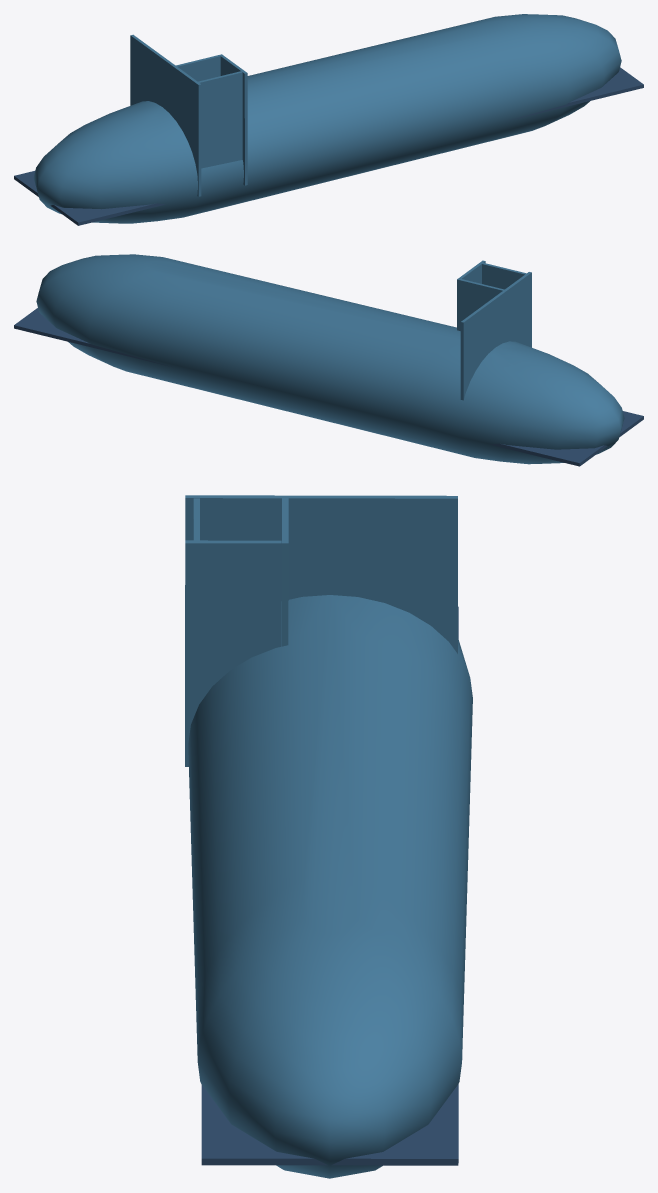
Rendered from wagon_scene (1).fbx.
3 renders of one model, top to bottom at view 1: azimuth 30°, elevation 25°; view 2: azimuth 150°, elevation 25°; view 3: azimuth 270°, elevation 25°, orthographic. The views are drawn at different scales.
Visible parts, largest first — view 1: Sphere.001, Cube.011, Plane; view 2: Sphere.001, Cube.011, Plane; view 3: Sphere.001, Cube.011, Plane.
Boxes of the visible parts, x1,y1,x2,y2 form: Sphere.001: (33, 14, 621, 223); Cube.011: (130, 34, 247, 196); Plane: (14, 67, 643, 225); Sphere.001: (36, 254, 624, 464); Cube.011: (457, 260, 531, 400); Plane: (14, 308, 643, 466); Sphere.001: (188, 595, 472, 1178); Cube.011: (185, 495, 457, 766); Plane: (201, 606, 458, 1165).
Size of the model in its own units: 3352 by 847 by 719.
